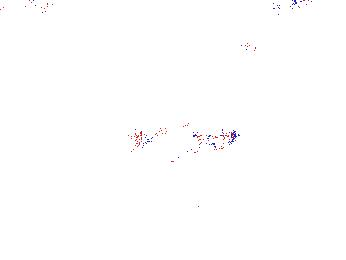red belly glassfish: (269, 1, 316, 14), (238, 37, 271, 52)
redtail glassfish: (126, 120, 240, 163)
